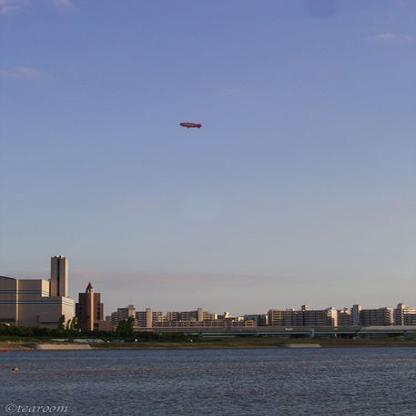Airship: (177, 119, 203, 132)
